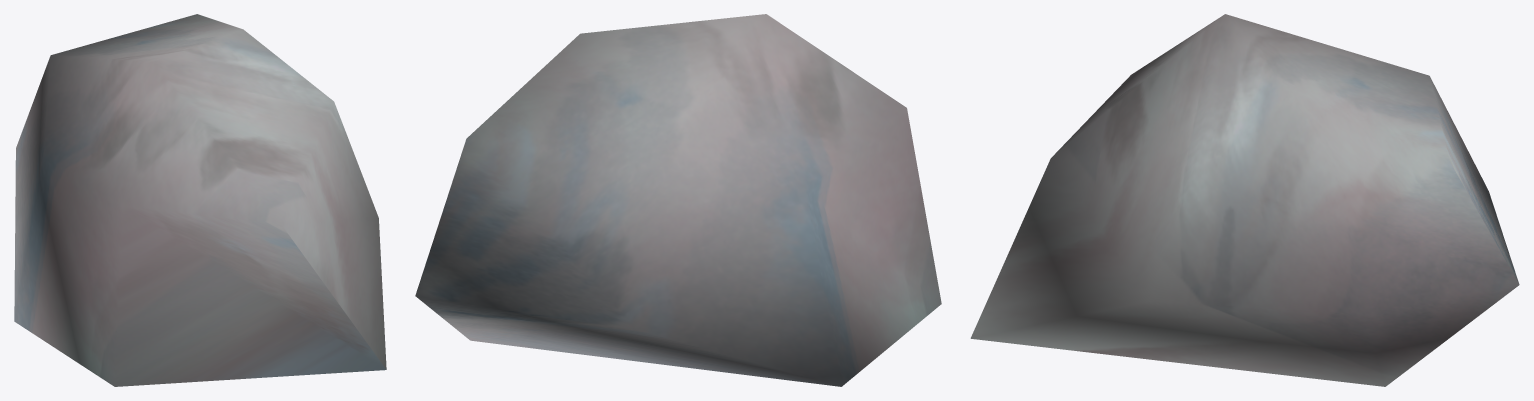
The model's file is m_rock_01.fbx.
3 views of the same model, side by side, from view 1: azimuth 30°, elevation 25°; view 2: azimuth 150°, elevation 25°; view 3: azimuth 270°, elevation 25° (orthographic). The views are drawn at different scales.
Parts seen in each view (by area): view 1: m_rock_01; view 2: m_rock_01; view 3: m_rock_01.
Part boxes in pixels (left/top/right/bottom): m_rock_01: left=14, top=14, right=386, bottom=386; m_rock_01: left=415, top=14, right=941, bottom=386; m_rock_01: left=970, top=14, right=1519, bottom=386.
Bounding box in the file's own units: 47.63 × 39.55 × 69.86.
